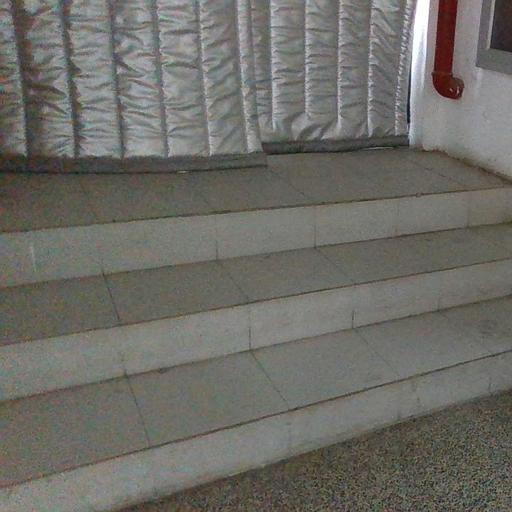stairs: (0, 149, 511, 511)
